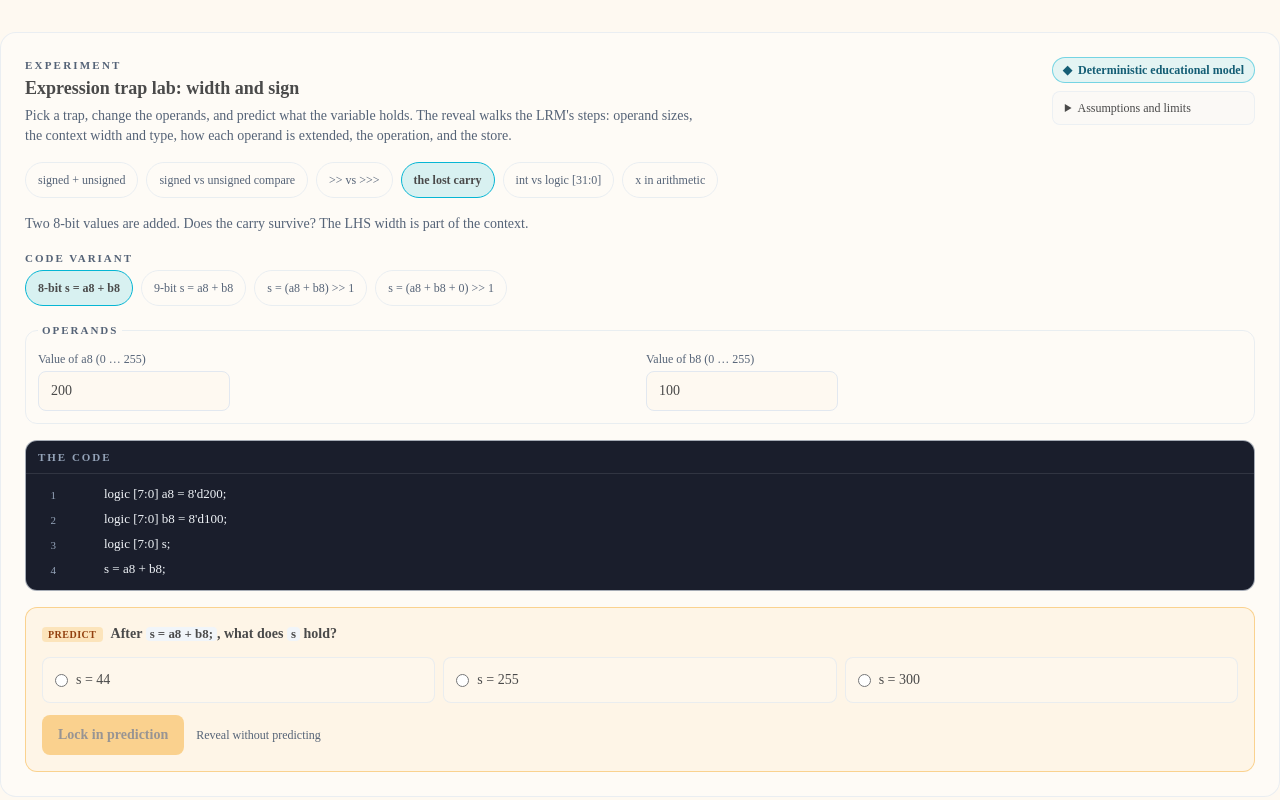
Scenario: SignednessVisualizer (expression trap lab) › the LHS width is part of the context: a 9-bit s keeps the carry
The width and height of the screenshot is (1280, 800).
Click the radio button labelled "9-bit s = a8 + b8" at (194, 288), box [141,270,246,306]
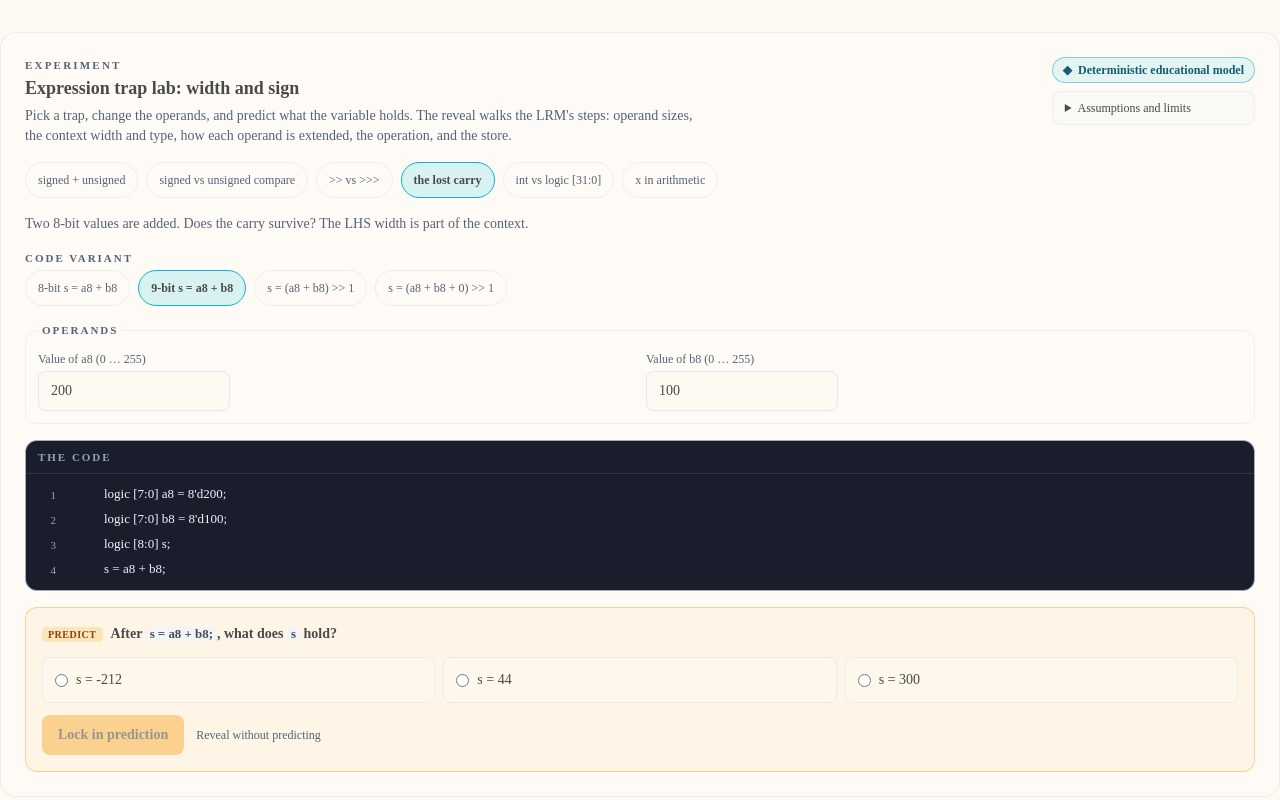
Expected: the text "logic [8:0] s;" is shown, [104,536,170,551]
Click the button "Reveal without predicting" at (258, 735), box [196,727,321,743]
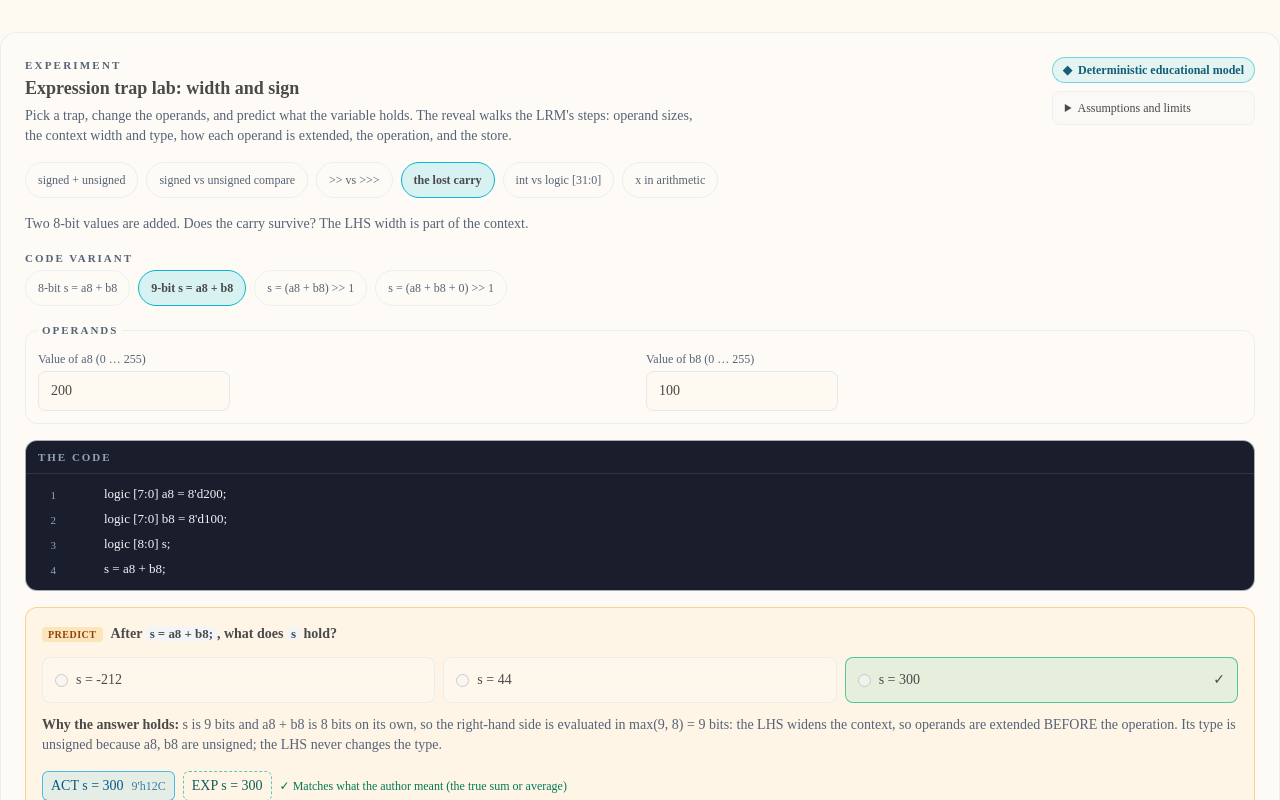
Expected: the text "ACT s = 3009'h12C" is shown, [42,771,175,799]
